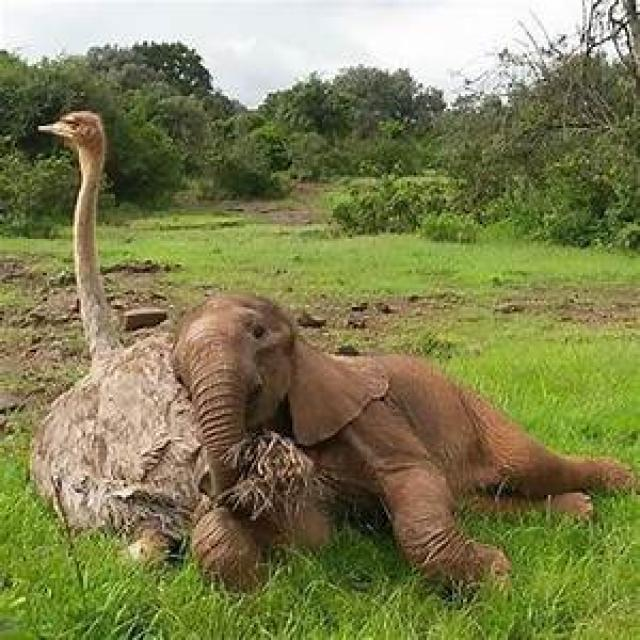elephant: (169, 294, 640, 604)
